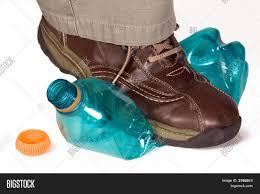plastic: (33, 78, 157, 164)
